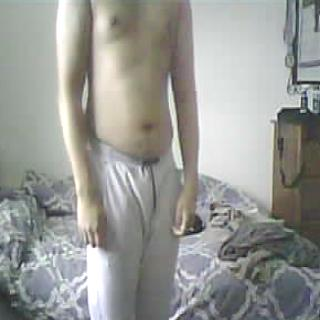White Sweatpants: (86, 145, 178, 320)
